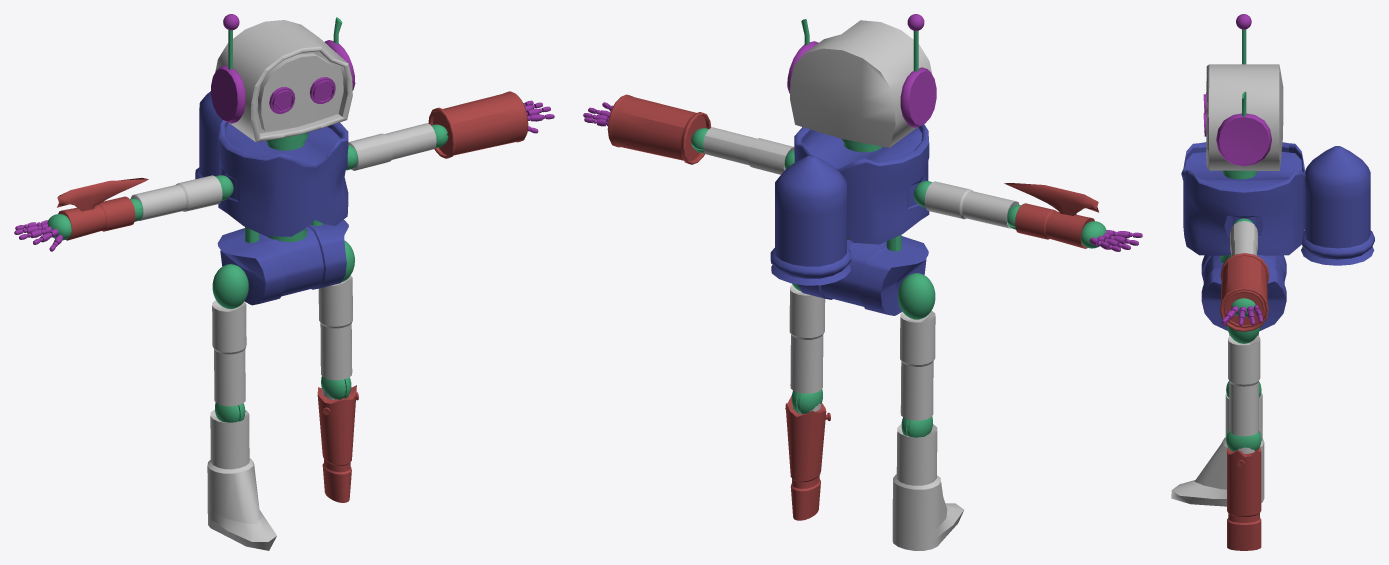
The model's file is R-BRT3.fbx.
The picture shows the model from 3 angles, left to right: view 1: azimuth 30°, elevation 25°; view 2: azimuth 150°, elevation 25°; view 3: azimuth 270°, elevation 25°; orthographic projection. The views are drawn at different scales.
Parts seen in each view (by area): view 1: LeftArm_RightArm5; view 2: LeftArm_RightArm5; view 3: LeftArm_RightArm5.
Part boxes in pixels (x1,y1,x2,y2): LeftArm_RightArm5: (14,14,554,550); LeftArm_RightArm5: (583,14,1142,550); LeftArm_RightArm5: (1171,14,1374,550).
Size of the model in its own units: 108 by 99.13 by 37.81.
